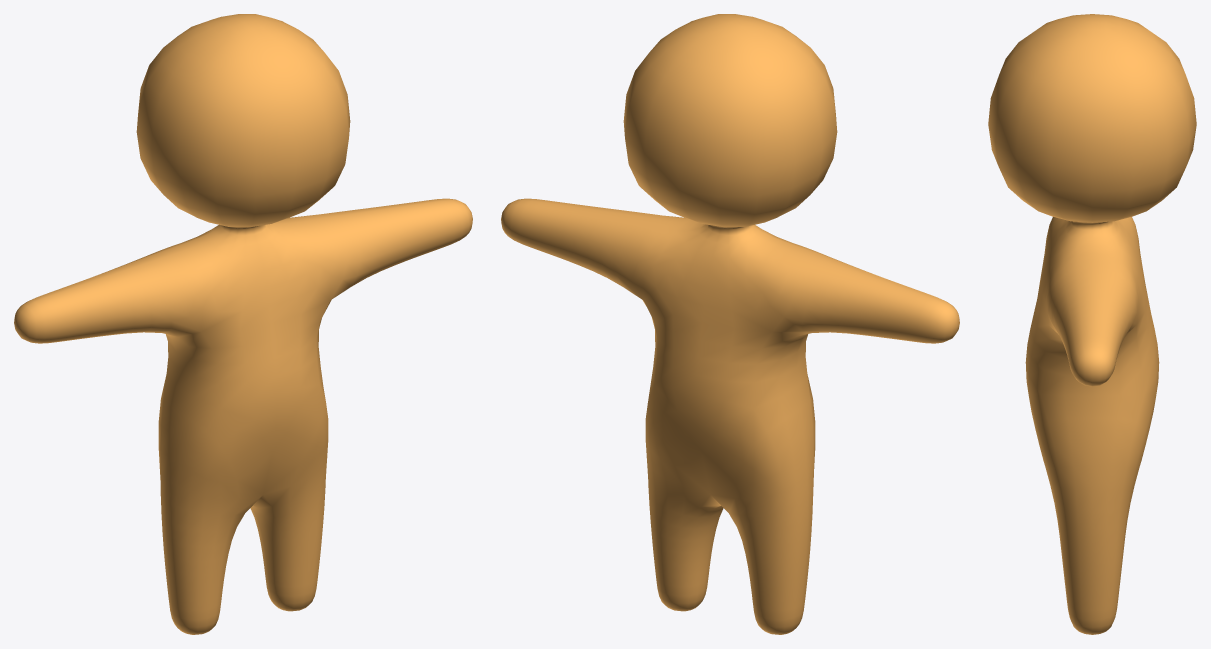
Rendered from BoxingMan.fbx.
The picture shows the model from 3 angles, left to right: view 1: azimuth 30°, elevation 25°; view 2: azimuth 150°, elevation 25°; view 3: azimuth 270°, elevation 25°; orthographic projection.
Visible parts, largest first — view 1: Куб; view 2: Куб; view 3: Куб.
Part boxes in pixels (x1,y1,x2,y2): Куб: (14, 14, 472, 634); Куб: (501, 14, 959, 634); Куб: (988, 14, 1196, 634).
Bounding box in the file's own units: 586 × 738 × 238.
